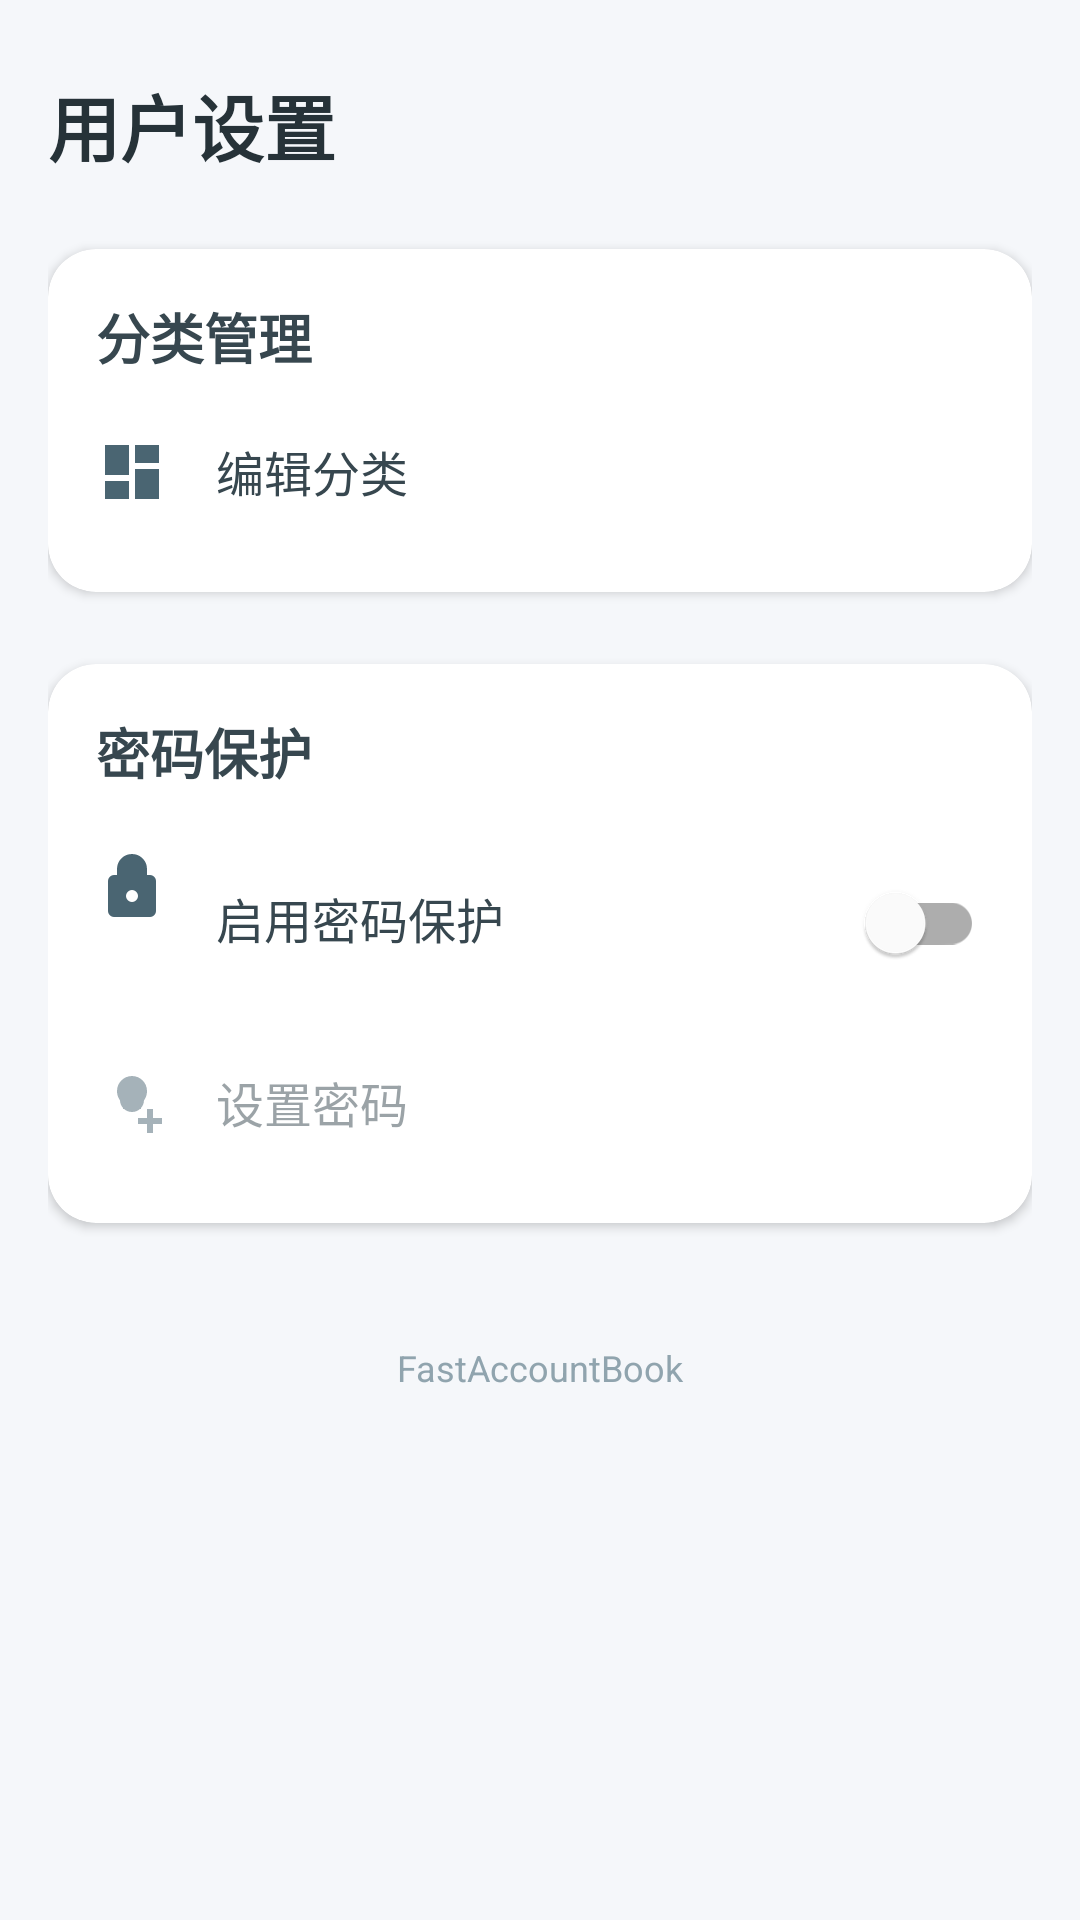

Icon click points for this 1080x1920 phone screenshot, format (x=x, y=y):
category: (x=132, y=472)
lock: (x=132, y=885)
